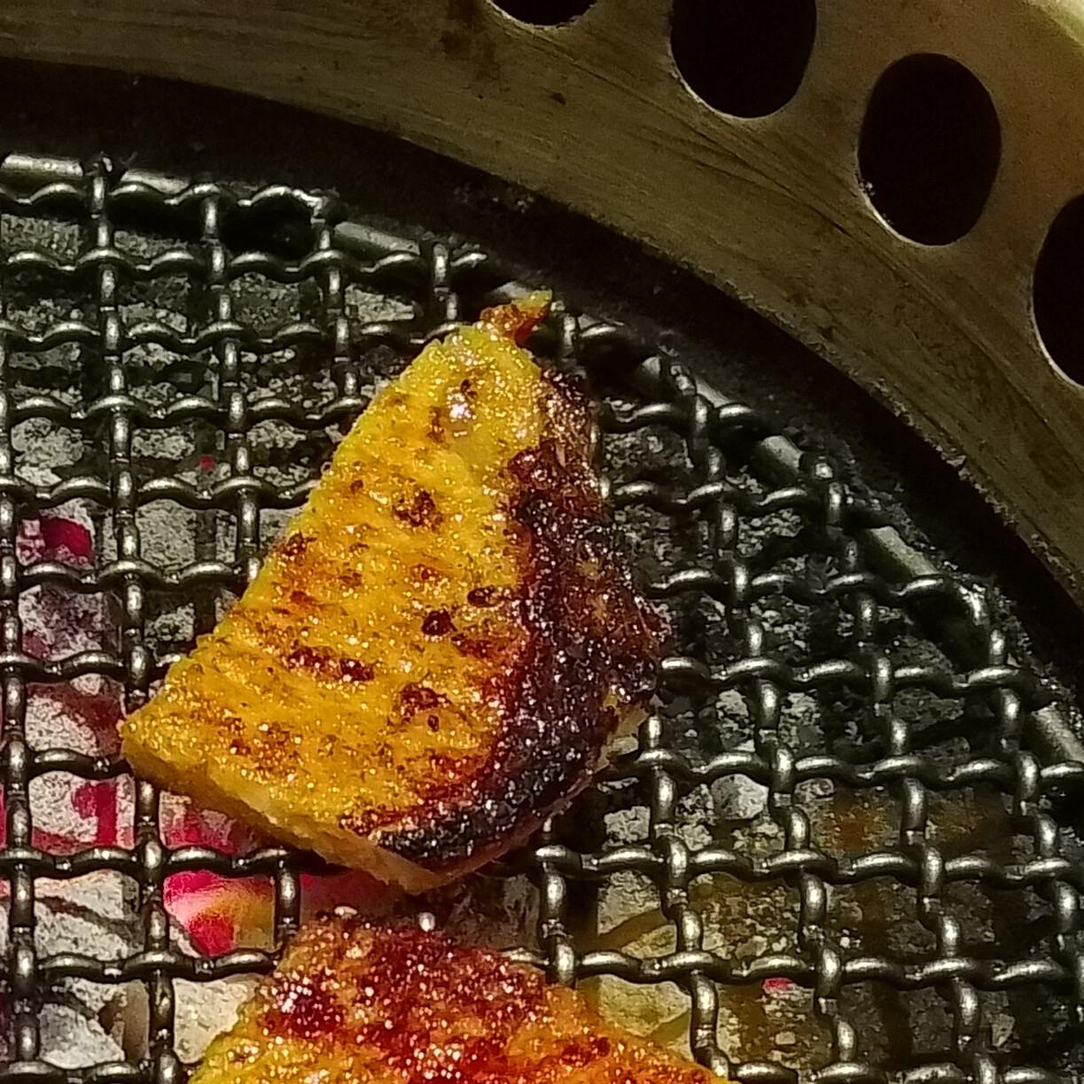Overcooked: (122, 293, 663, 893)
